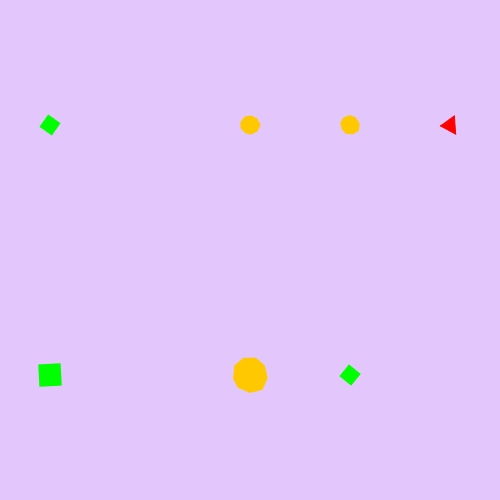nonagon: (228, 354, 272, 397), (236, 111, 265, 139), (336, 111, 365, 139)
quadrilateral: (31, 356, 70, 395), (35, 110, 65, 140), (335, 360, 365, 390)
triangle: (438, 112, 463, 139)
